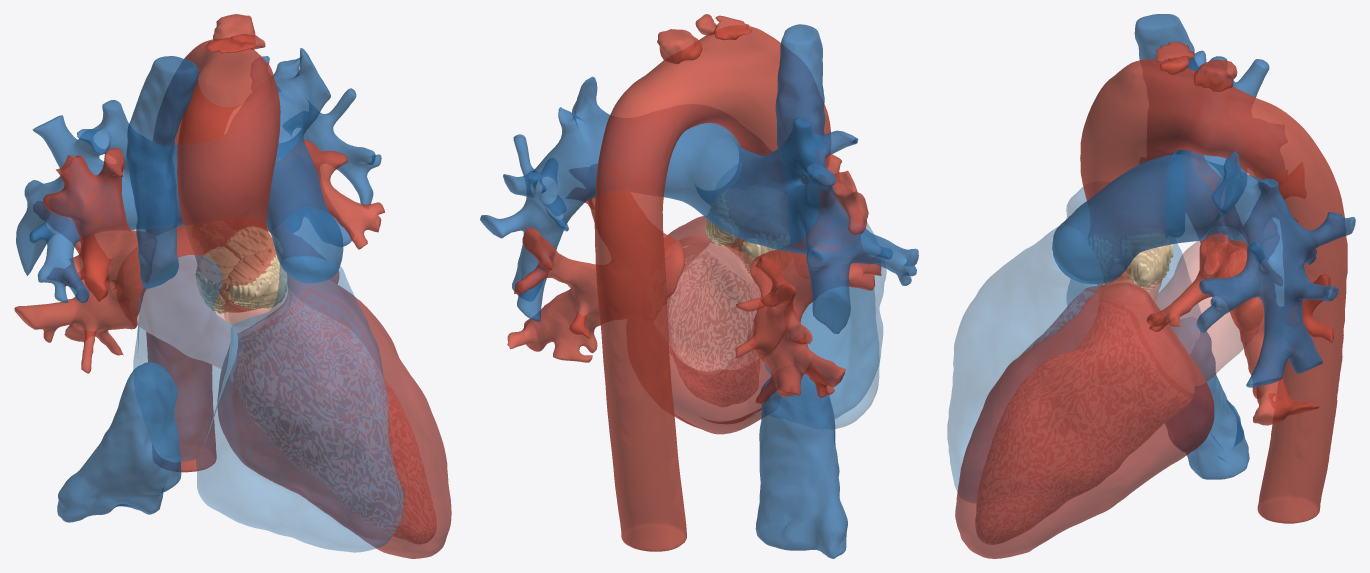
Rendered from heart-ct-animated-v1.glb.
3 renders of one model, left to right at view 1: azimuth 30°, elevation 25°; view 2: azimuth 150°, elevation 25°; view 3: azimuth 270°, elevation 25°, orthographic. The views are drawn at different scales.
Parts seen in each view (by area): view 1: CT_RV_Cavity, CT_LV_Myocardium, CT_PulmonaryArteries, CT_Aorta, CT_RA_Cavity, CT_RightPulmonaryVeins, CT_IVC, CT_SVC, CT_LeftPulmonaryVeins, CT_LA_Cavity, CT_Valve_Aortic_RCC, CT_Valve_Aortic_NCC (+4 smaller); view 2: CT_Aorta, CT_PulmonaryArteries, CT_RightPulmonaryVeins, CT_IVC, CT_LV_Myocardium, CT_LA_Cavity, CT_LeftPulmonaryVeins, CT_SVC, CT_LV_Cavity, CT_RV_Cavity, CT_RA_Cavity, CT_Aorta_LeftSubclavian (+3 smaller); view 3: CT_LV_Myocardium, CT_Aorta, CT_PulmonaryArteries, CT_RV_Cavity, CT_LeftPulmonaryVeins, CT_IVC, CT_LV_Cavity, CT_LA_Cavity, CT_RightPulmonaryVeins, CT_SVC, CT_Valve_Aortic_LCC, CT_RA_Cavity (+3 smaller).
Boxes of the visible parts, x1,y1,x2,y2 form: CT_RV_Cavity: [196, 256, 403, 552]; CT_LV_Myocardium: [217, 274, 451, 558]; CT_PulmonaryArteries: [16, 48, 381, 302]; CT_Aorta: [146, 39, 280, 472]; CT_RA_Cavity: [133, 255, 237, 462]; CT_RightPulmonaryVeins: [14, 148, 156, 373]; CT_IVC: [57, 362, 181, 522]; CT_SVC: [126, 56, 198, 288]; CT_LeftPulmonaryVeins: [267, 139, 384, 283]; CT_LA_Cavity: [137, 226, 230, 368]; CT_Valve_Aortic_RCC: [218, 248, 286, 308]; CT_Valve_Aortic_NCC: [195, 246, 239, 313]; CT_Aorta: [594, 26, 830, 551]; CT_PulmonaryArteries: [480, 76, 918, 334]; CT_RightPulmonaryVeins: [735, 151, 881, 403]; CT_IVC: [755, 374, 847, 558]; CT_LV_Myocardium: [667, 216, 770, 434]; CT_LA_Cavity: [667, 236, 760, 371]; CT_LeftPulmonaryVeins: [507, 164, 684, 362]; CT_SVC: [775, 24, 825, 243]; CT_LV_Cavity: [669, 241, 760, 406]; CT_RV_Cavity: [801, 287, 879, 428]; CT_RA_Cavity: [764, 222, 886, 418]; CT_Aorta_LeftSubclavian: [657, 29, 702, 64]; CT_LV_Myocardium: [955, 282, 1214, 558]; CT_Aorta: [1080, 59, 1347, 523]; CT_PulmonaryArteries: [1052, 50, 1355, 387]; CT_RV_Cavity: [947, 227, 1102, 500]; CT_LeftPulmonaryVeins: [1146, 233, 1333, 425]; CT_IVC: [1165, 317, 1249, 479]; CT_LV_Cavity: [976, 280, 1193, 543]; CT_LA_Cavity: [1153, 240, 1247, 381]; CT_RightPulmonaryVeins: [1176, 150, 1282, 285]; CT_SVC: [1134, 14, 1198, 236]; CT_Valve_Aortic_LCC: [1121, 233, 1173, 287]; CT_RA_Cavity: [1066, 187, 1200, 339].
Bounding box in the file's own units: 3.48 × 4.29 × 3.48.
